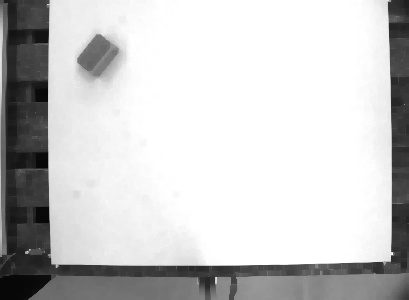b1: (74, 31, 121, 79)
